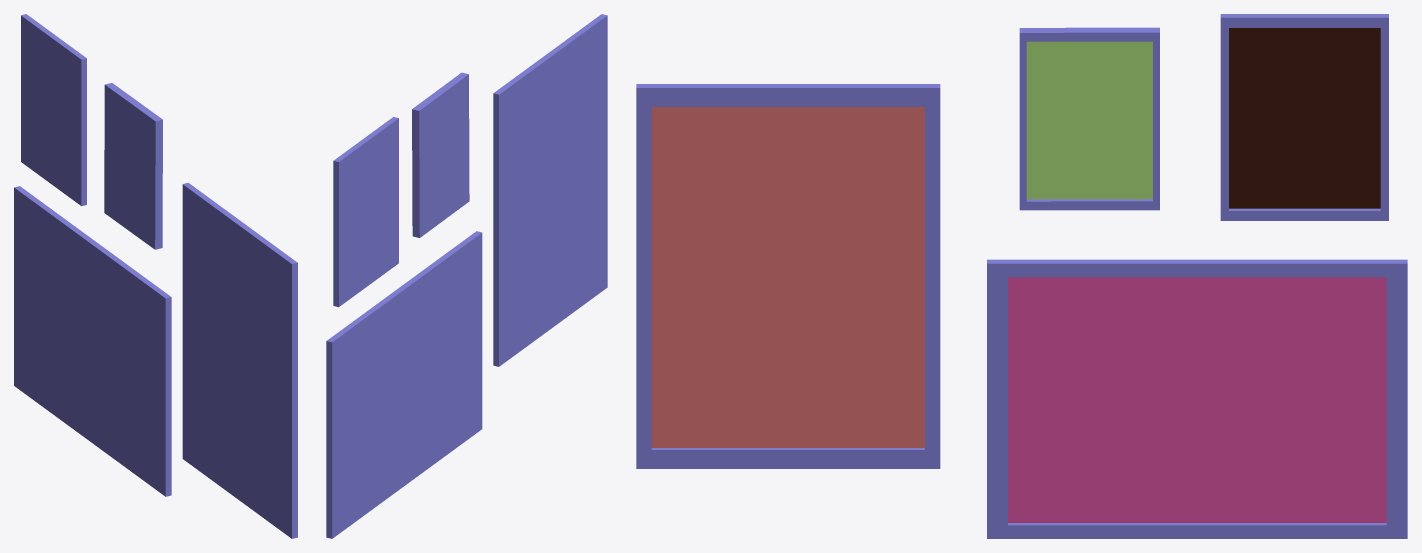
File: Cuadros.fbx
3 views of the same model, side by side, from view 1: azimuth 30°, elevation 25°; view 2: azimuth 150°, elevation 25°; view 3: azimuth 270°, elevation 25° (orthographic). The views are drawn at different scales.
Parts seen in each view (by area): view 1: Cuadros; view 2: Cuadros; view 3: Cuadros.
Boxes of the visible parts, box(x1,y1,x2,y2) form: Cuadros: box(14, 14, 297, 538); Cuadros: box(326, 14, 607, 538); Cuadros: box(636, 14, 1407, 538).
Bounding box in the file's own units: 1.57 × 61.5 × 82.5.
